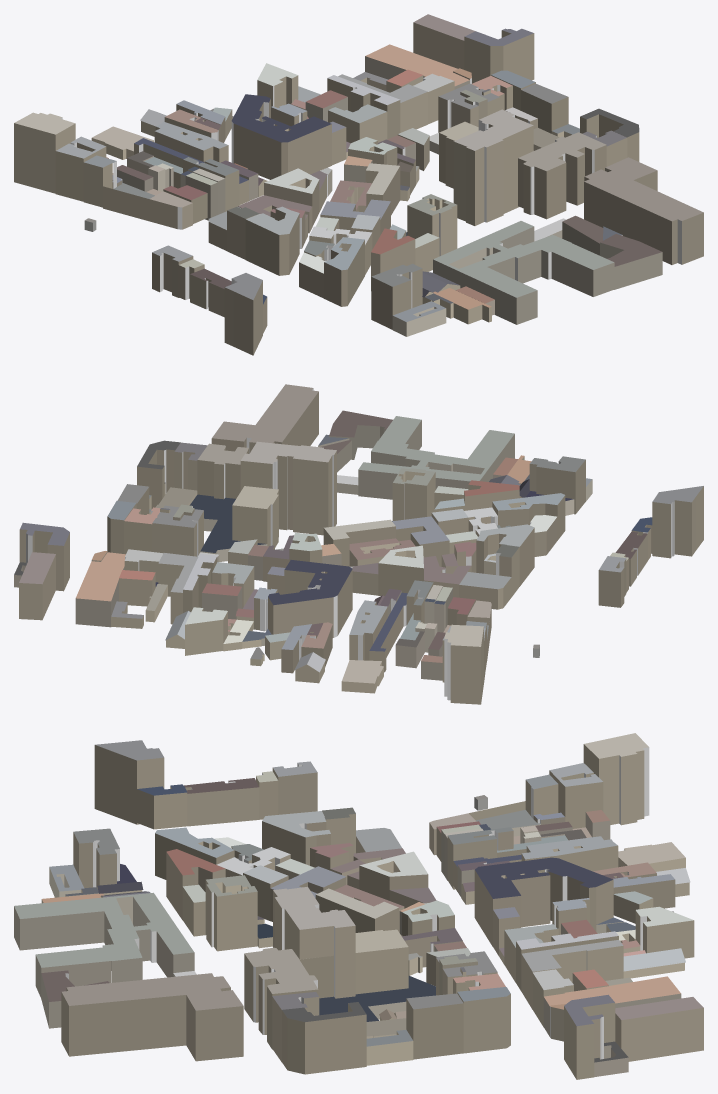
3 views of the same model, one above another, from view 1: azimuth 30°, elevation 25°; view 2: azimuth 150°, elevation 25°; view 3: azimuth 270°, elevation 25° (orthographic). The views are drawn at different scales.
Visible parts, largest first — view 1: tuile; view 2: tuile; view 3: tuile.
Part boxes in pixels (bbox=[...]): tuile: bbox=[14, 14, 703, 355]; tuile: bbox=[14, 384, 703, 704]; tuile: bbox=[14, 733, 703, 1079].
Size of the model in its own units: 269 by 40.02 by 279.
